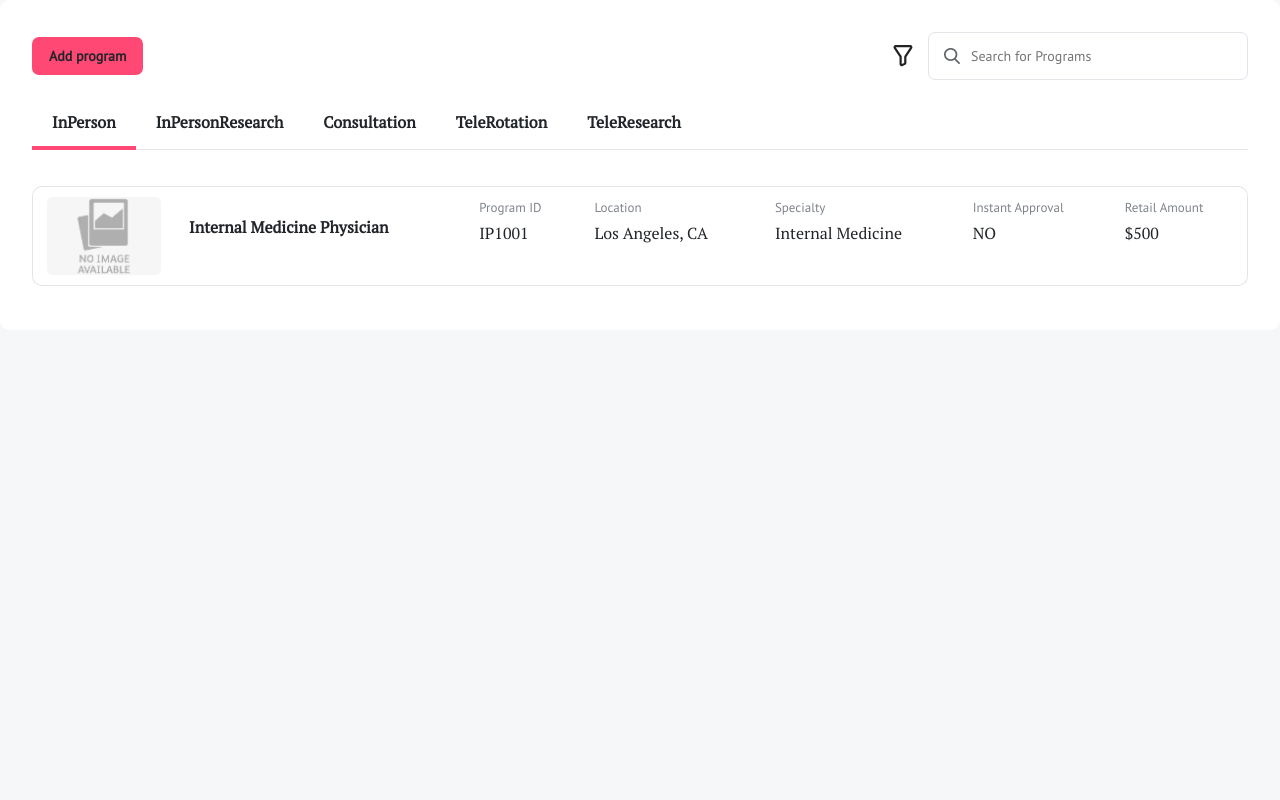
Test case: ProgramsPage › loads detail and pre-fills the edit form, then updates
Expected: the text "Program ID" is shown, [479, 199, 542, 216]
Step 1. Click the button "Internal Medicine" → {"x": 640, "y": 236}, box [32, 186, 1248, 286]
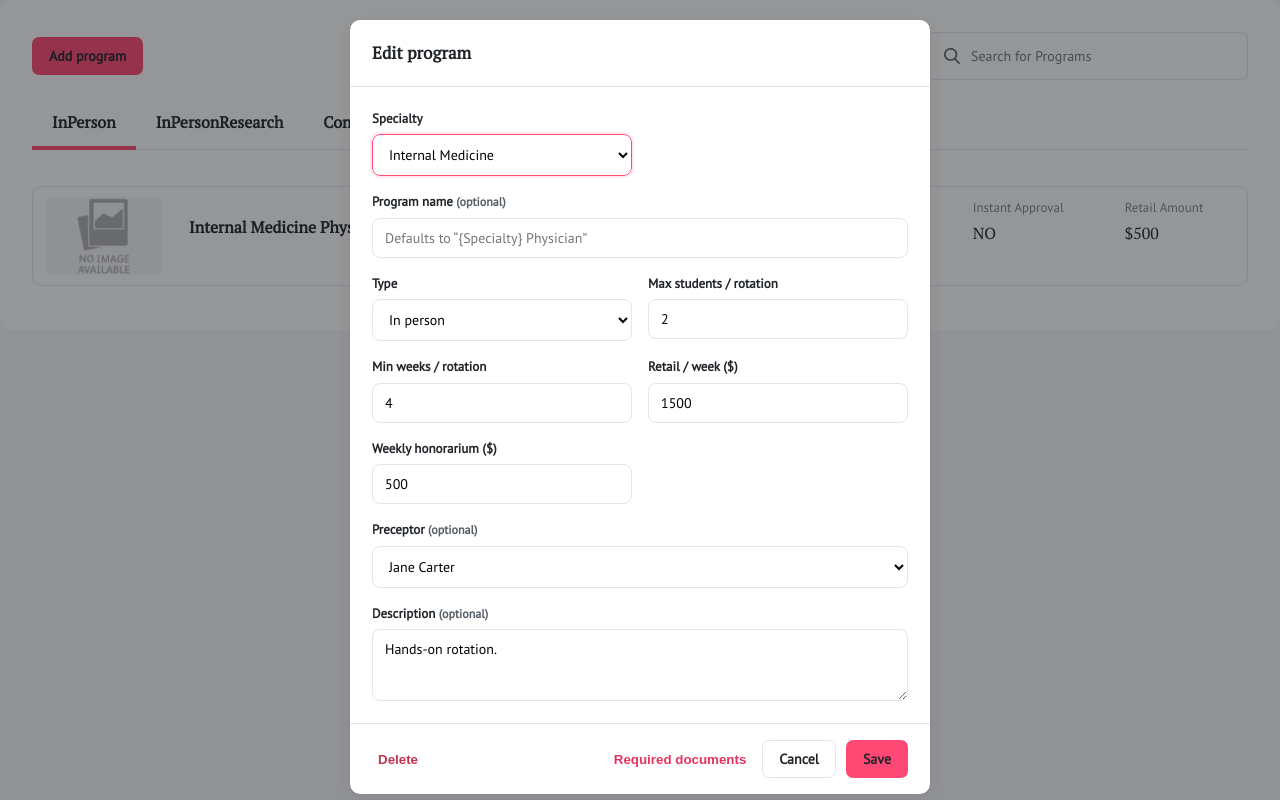
Expected: the dropdown labelled "Specialty" shows "Internal Medicine", [372, 134, 632, 176]
Expected: the number field labelled "Retail / week ($)" holds "1500", [648, 382, 908, 422]
Expected: the dropdown labelled "Preceptor (optional)" shows "Jane Carter", [372, 546, 908, 588]
Step 2. Click the button "Save" → {"x": 877, "y": 759}, box [846, 740, 908, 778]
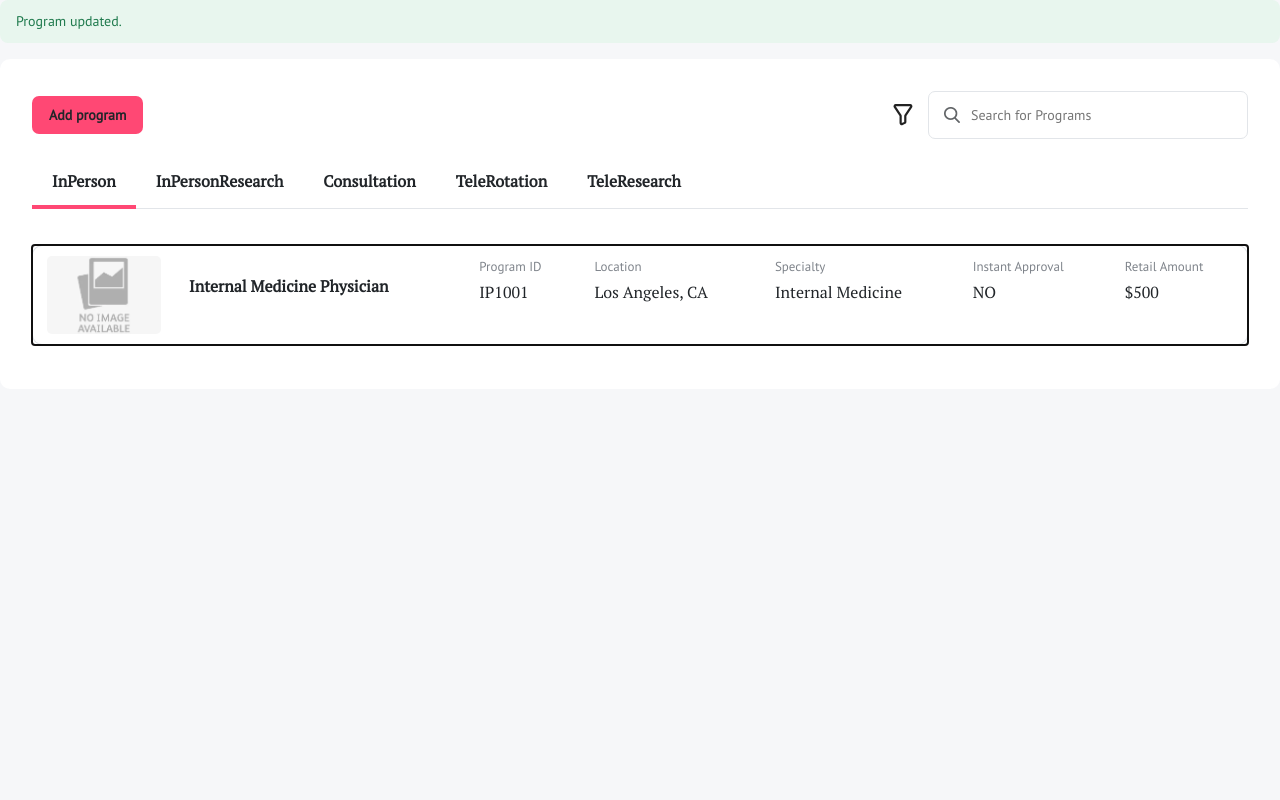
Expected: the text "Program updated." is shown, [0, 0, 1279, 43]
